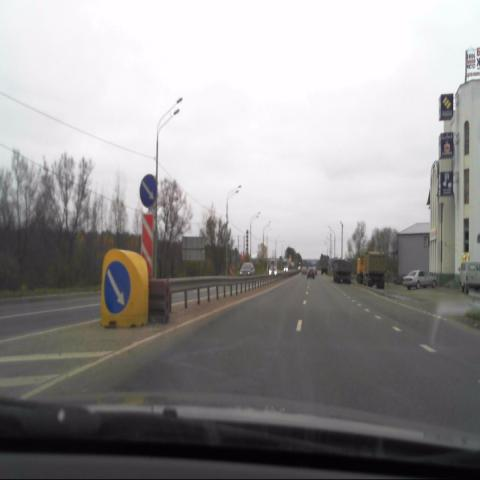4_2_1: (102, 258, 130, 317), (138, 173, 158, 209)
